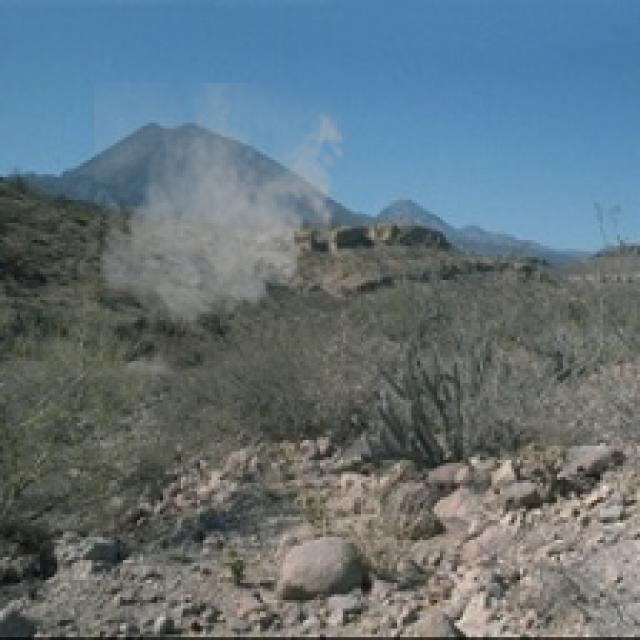smoke: (91, 83, 352, 343)
